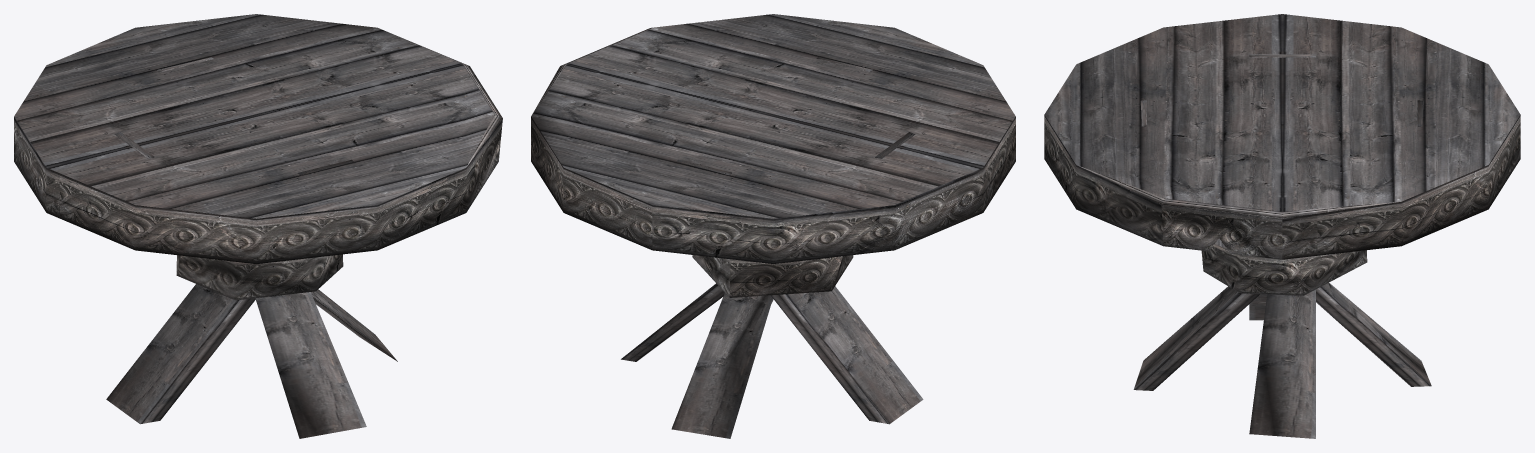
File: tavern_smalltable_LOD.fbx
3 renders of one model, left to right at view 1: azimuth 30°, elevation 25°; view 2: azimuth 150°, elevation 25°; view 3: azimuth 270°, elevation 25°, orthographic.
Parts seen in each view (by area): view 1: Default_Layer; view 2: Default_Layer; view 3: Default_Layer.
Boxes of the visible parts, left/top/right/bottom form: Default_Layer: left=14, top=14, right=502, bottom=438; Default_Layer: left=531, top=14, right=1015, bottom=438; Default_Layer: left=1044, top=14, right=1520, bottom=438.
Size of the model in its own units: 135 by 80.81 by 133.
1 material, 1 textured.
